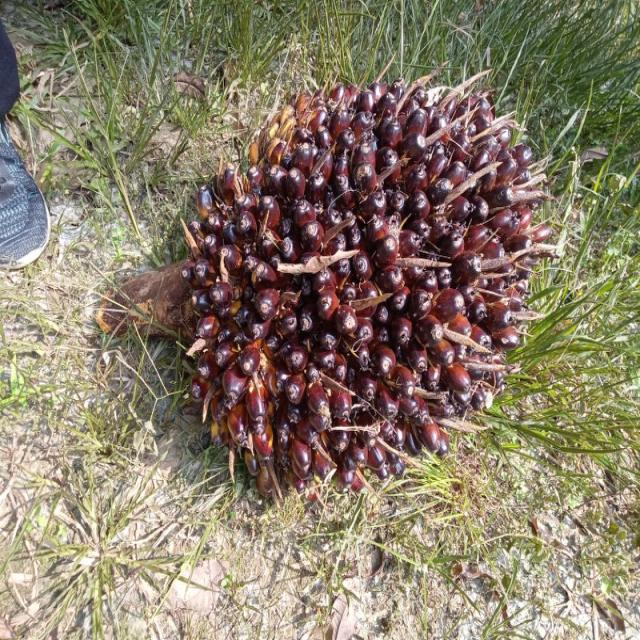fraksi 00: (165, 80, 551, 496)
